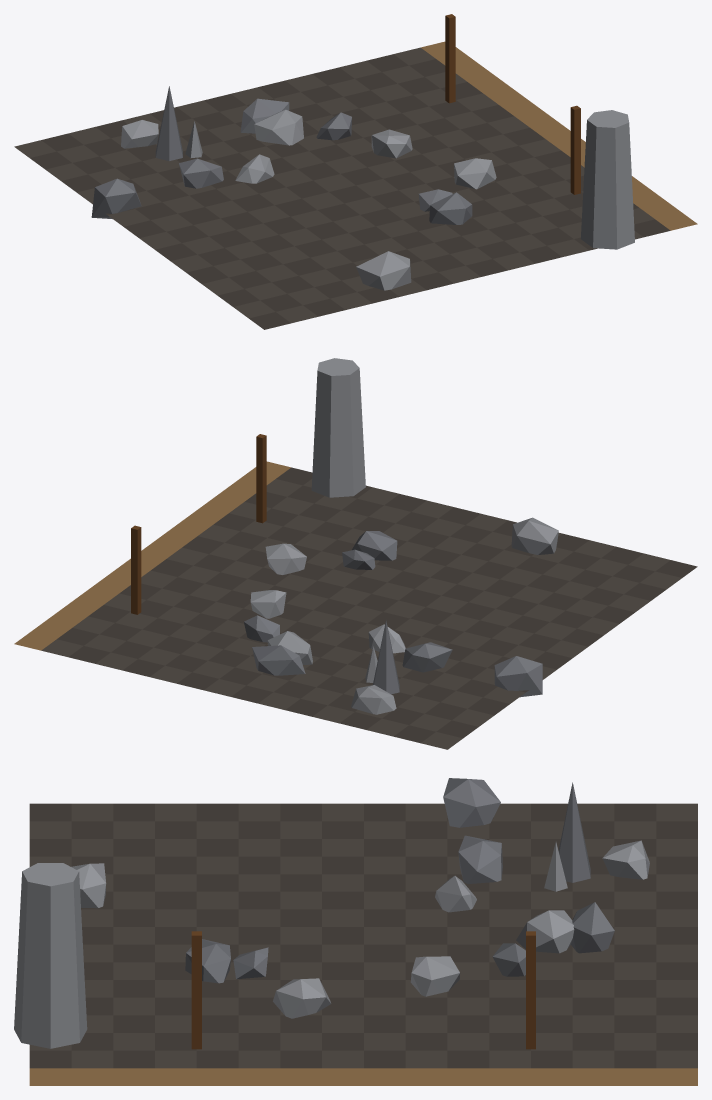
The model's file is chunk_5_19.glb.
The picture shows the model from 3 angles, top to bottom: view 1: azimuth 30°, elevation 25°; view 2: azimuth 150°, elevation 25°; view 3: azimuth 270°, elevation 25°; orthographic projection. The views are drawn at different scales.
Parts seen in each view (by area): view 1: chunk_5_19; view 2: chunk_5_19; view 3: chunk_5_19.
Boxes of the visible parts, x1,y1,x2,y2 form: chunk_5_19: (14, 14, 697, 329); chunk_5_19: (14, 358, 697, 749); chunk_5_19: (14, 778, 697, 1085).
Bounding box in the file's own units: 16.32 × 4.77 × 16.38.
